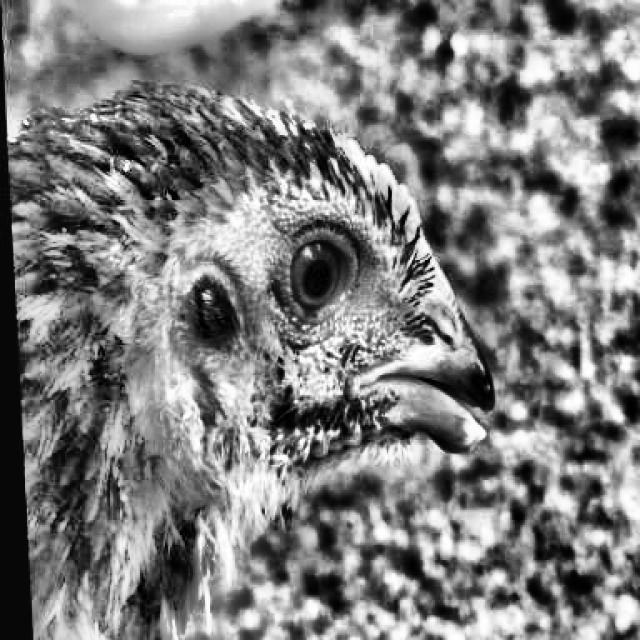Healthy: (274, 224, 378, 324)
